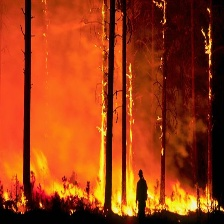fire: (1, 172, 223, 213), (96, 8, 109, 177), (195, 9, 212, 100)
smoke: (6, 2, 94, 158)
